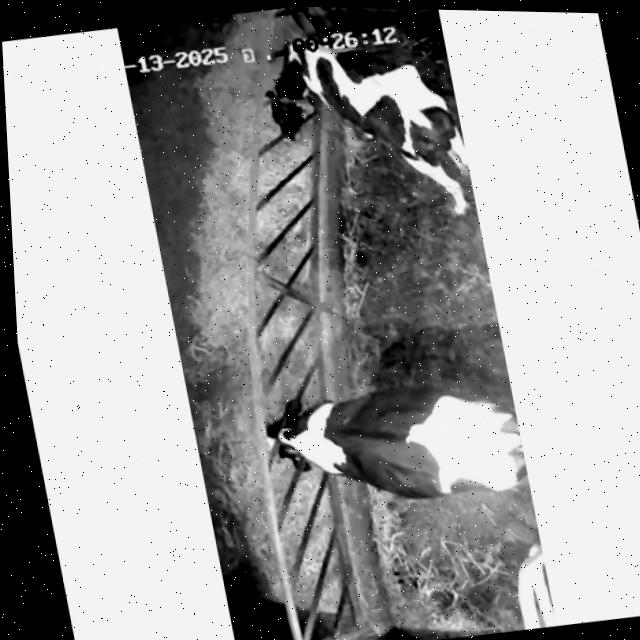eat: (225, 27, 390, 154), (225, 375, 382, 499)
